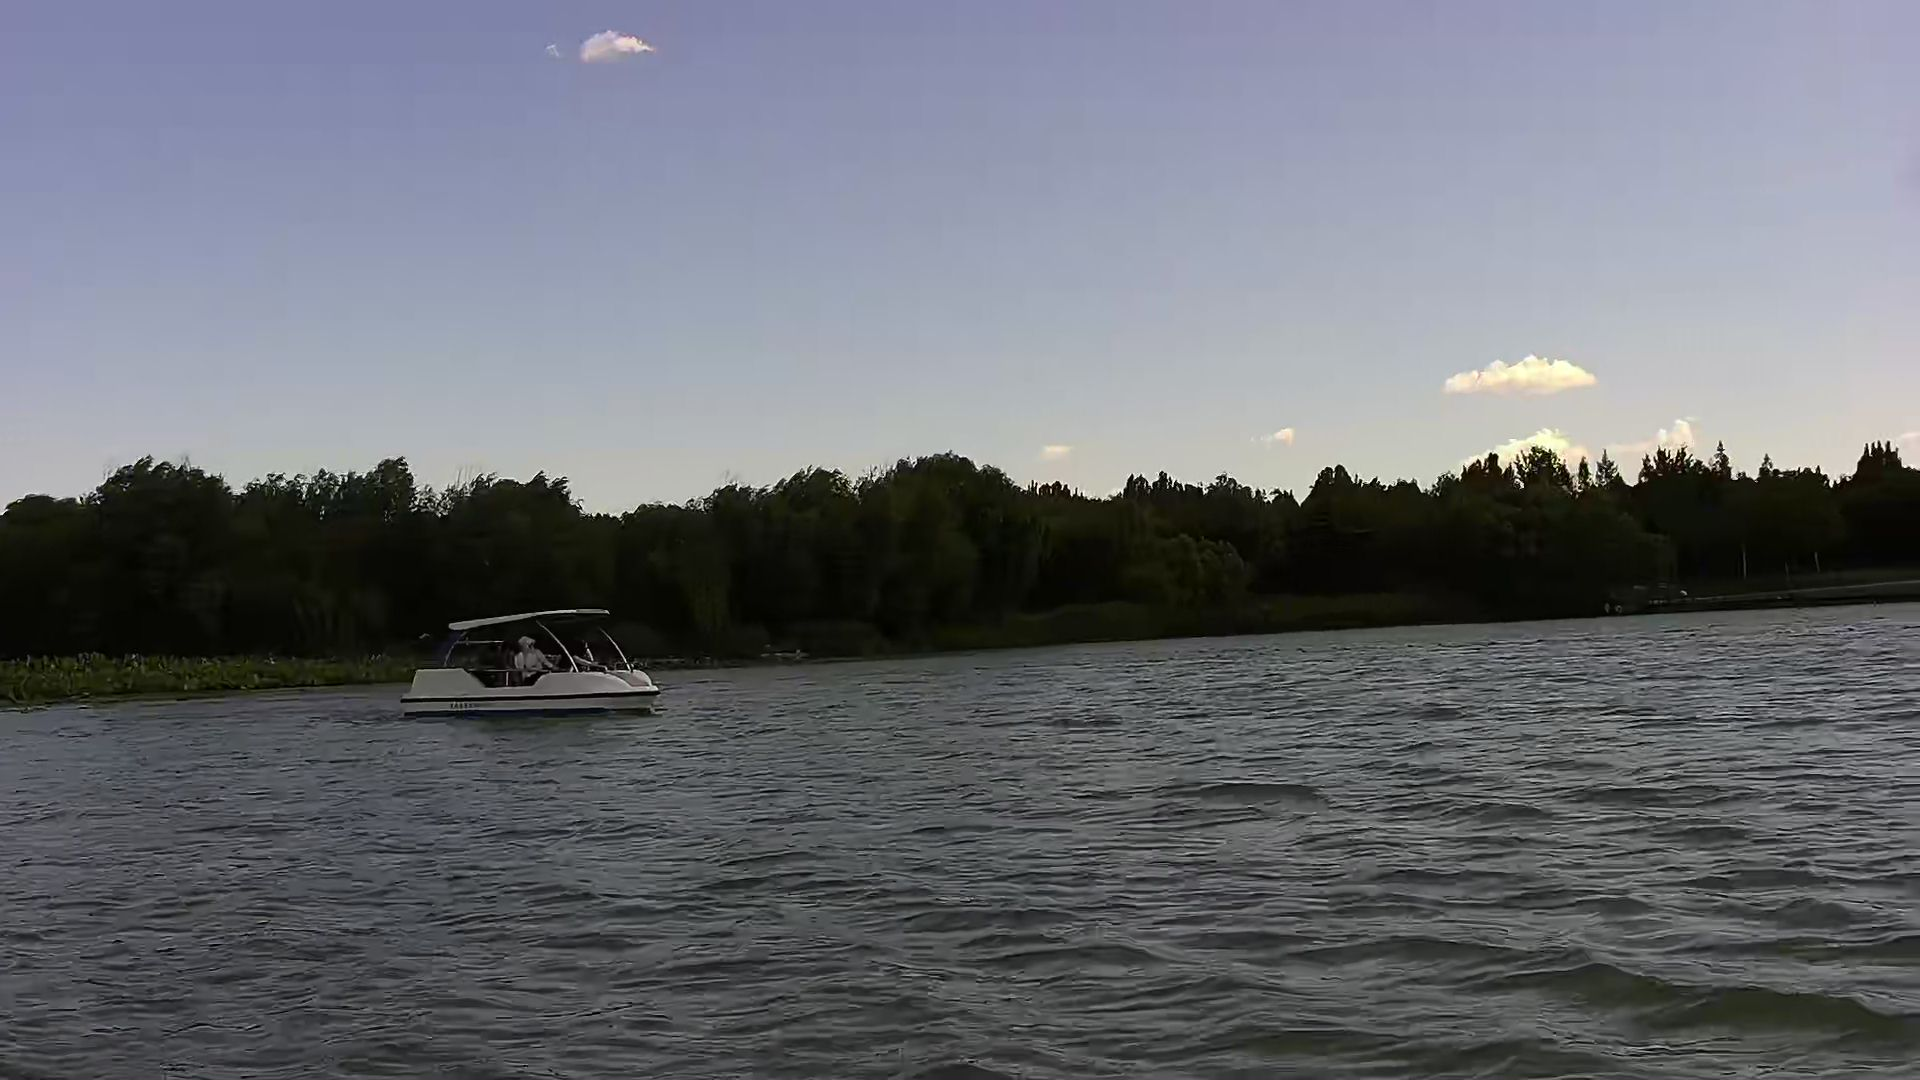boat: (389, 589, 670, 723)
